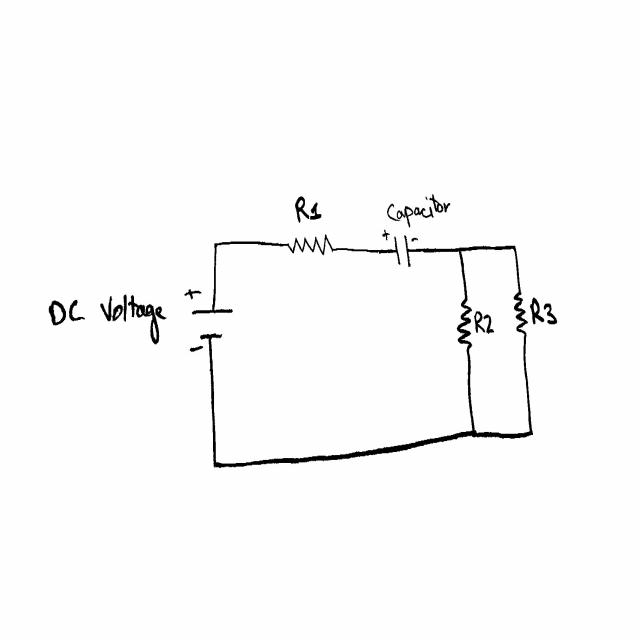capacitor: (381, 228, 422, 268)
junction: (467, 424, 480, 443), (526, 422, 536, 440), (211, 453, 221, 471), (509, 241, 519, 256), (211, 238, 220, 254), (455, 244, 465, 258)
resistor: (286, 234, 336, 257), (456, 294, 473, 353), (513, 289, 529, 338)
source: (181, 285, 235, 361)
text: (45, 291, 169, 347), (385, 189, 452, 230), (529, 298, 558, 327), (294, 195, 322, 224), (474, 308, 494, 335)
